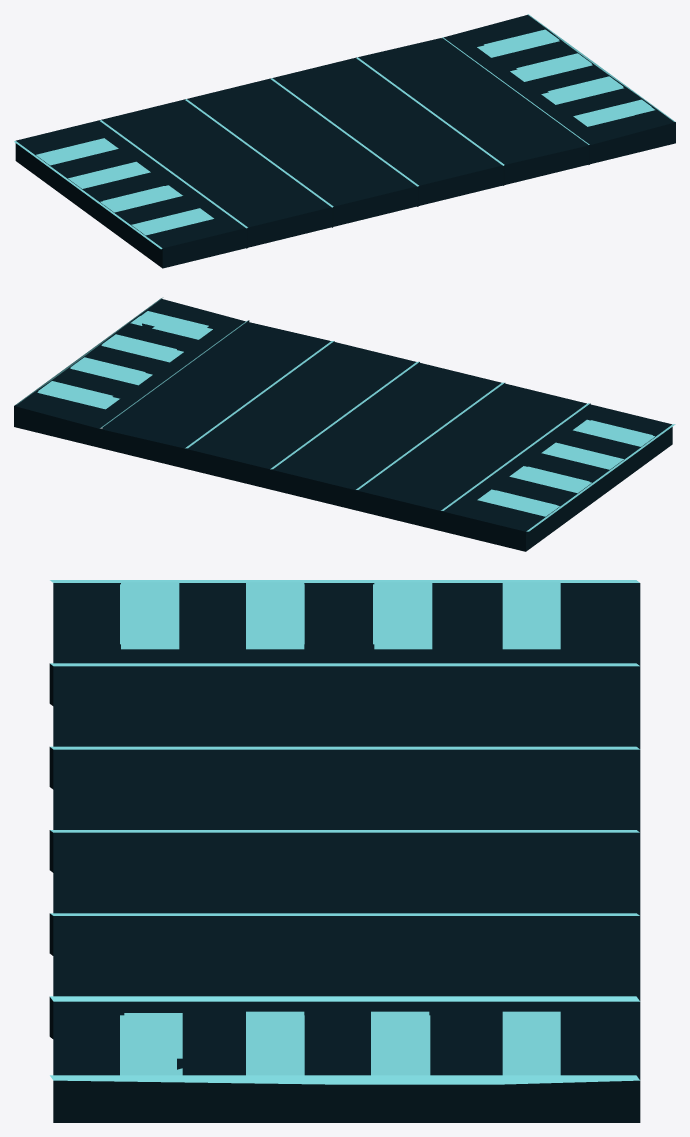
Rendered from reta3.fbx.
3 views of the same model, one above another, from view 1: azimuth 30°, elevation 25°; view 2: azimuth 150°, elevation 25°; view 3: azimuth 270°, elevation 25° (orthographic). The views are drawn at different scales.
Parts seen in each view (by area): view 1: Cube, Plane.008; view 2: Cube, Plane.008; view 3: Cube, Plane.008.
Part boxes in pixels (<box>): Cube: <box>14,14,675,268</box>; Plane.008: <box>36,40,651,235</box>; Cube: <box>14,297,675,551</box>; Plane.008: <box>37,316,654,516</box>; Cube: <box>49,580,640,1122</box>; Plane.008: <box>121,582,560,1075</box>.
Size of the model in its own units: 503 by 21 by 250.
Materials: 2 (2 with a texture image).
